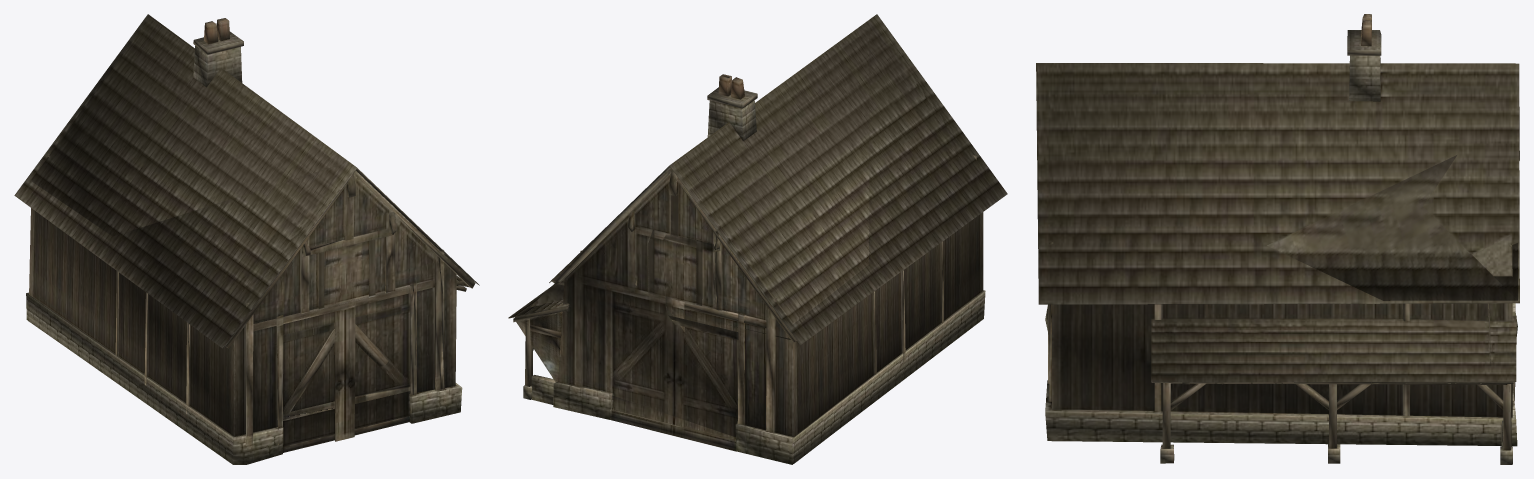
Rendered from building-barn.glb.
The picture shows the model from 3 angles, left to right: view 1: azimuth 30°, elevation 25°; view 2: azimuth 150°, elevation 25°; view 3: azimuth 270°, elevation 25°; orthographic projection. The views are drawn at different scales.
Visible parts, largest first — view 1: turn; view 2: turn; view 3: turn.
Part boxes in pixels (<box>): turn: <box>14,14,479,464</box>; turn: <box>508,14,1007,464</box>; turn: <box>1036,14,1519,464</box>.
Bounding box in the file's own units: 0.79 × 0.7954 × 0.9609.
Materials: 1 (1 with a texture image).
